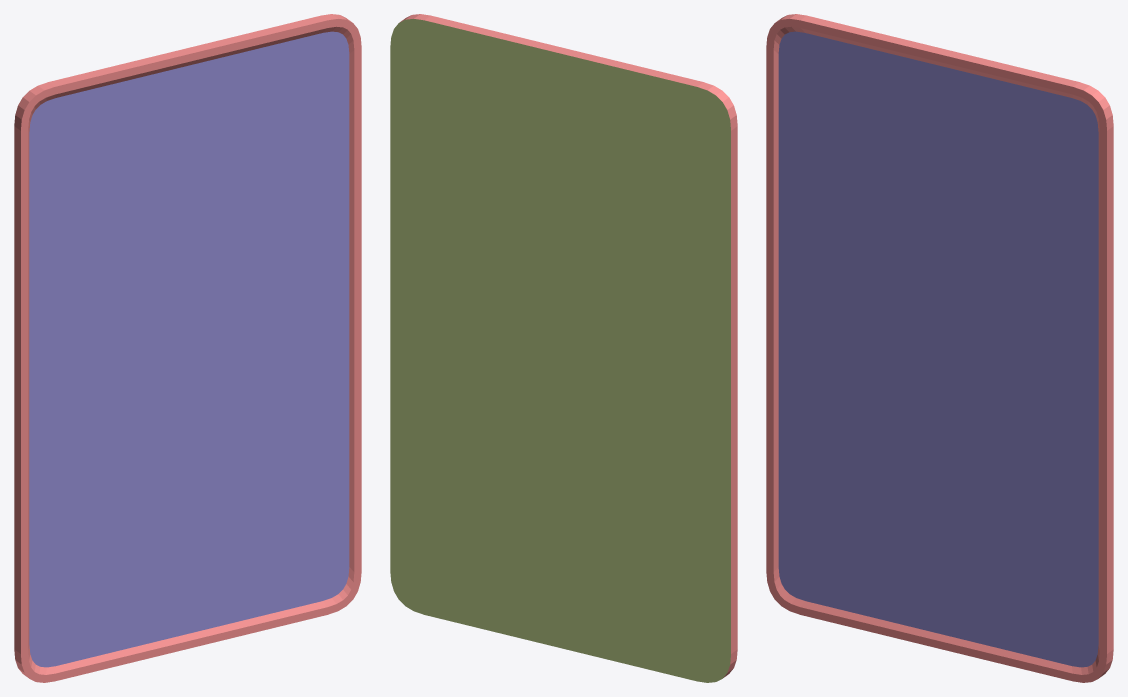
Rendered from KaPai.FBX.
The picture shows the model from 3 angles, left to right: view 1: azimuth 30°, elevation 25°; view 2: azimuth 150°, elevation 25°; view 3: azimuth 330°, elevation 25°; orthographic projection.
Visible parts, largest first — view 1: Box001; view 2: Box001; view 3: Box001.
Part boxes in pixels (<box>): Box001: <box>14,14,361,682</box>; Box001: <box>390,14,737,682</box>; Box001: <box>766,14,1113,682</box>.
Bounding box in the file's own units: 30 × 1 × 50.
